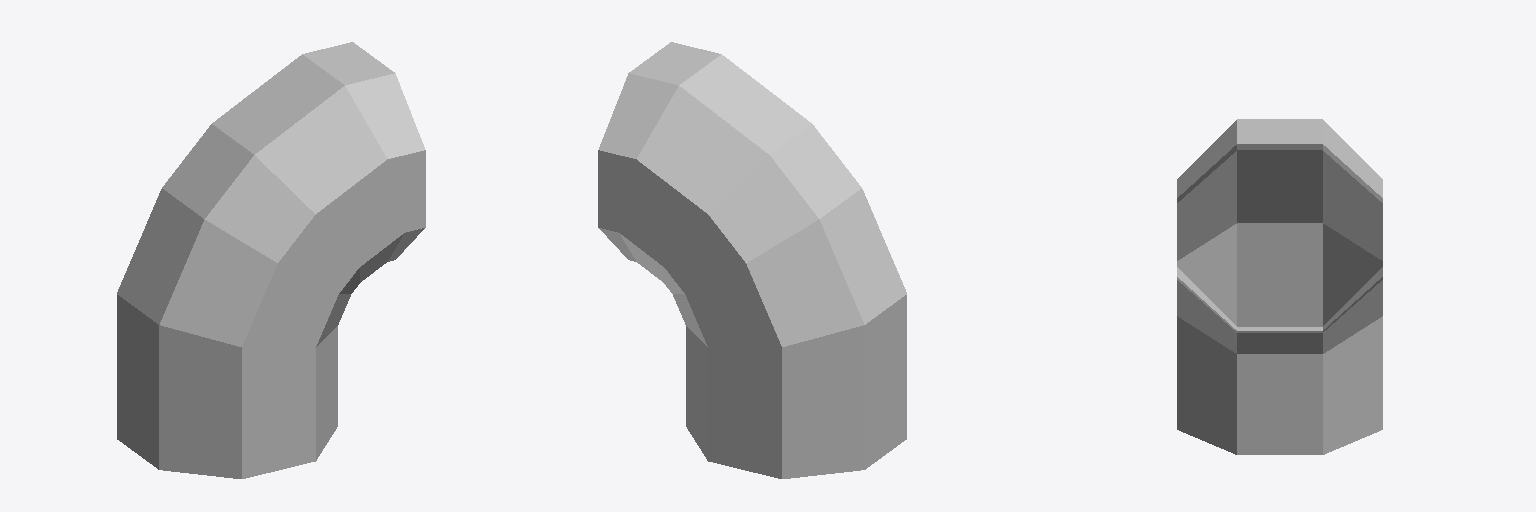
Rendered from pipeStart.obj.
The picture shows the model from 3 angles: view 1: azimuth 30°, elevation 25°; view 2: azimuth 150°, elevation 25°; view 3: azimuth 270°, elevation 25°; orthographic projection.
Visible parts, largest first — view 1: mesh01; view 2: mesh01; view 3: mesh01.
Boxes of the visible parts, x1=… form: mesh01: x1=117, y1=42, x2=425, y2=478; mesh01: x1=598, y1=42, x2=906, y2=478; mesh01: x1=1177, y1=119, x2=1382, y2=454.
Bounding box in the file's own units: 1.01 × 1.38 × 0.7611.